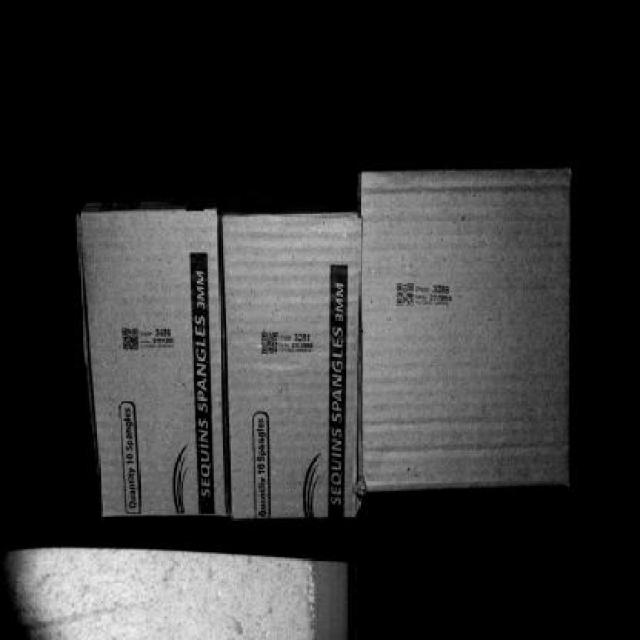cardboxes: (364, 172, 576, 483), (84, 203, 228, 515), (225, 212, 360, 523)
